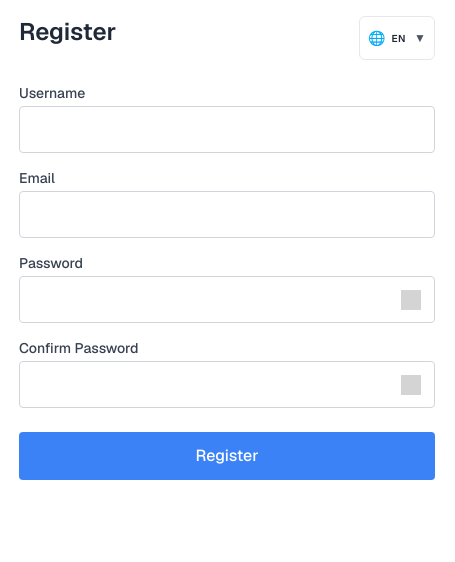
Test: RegisterForm › shows validation error for short password
Type "testuser" into the field labelled "Username". click: (227, 130)
box: [19,106,435,153]
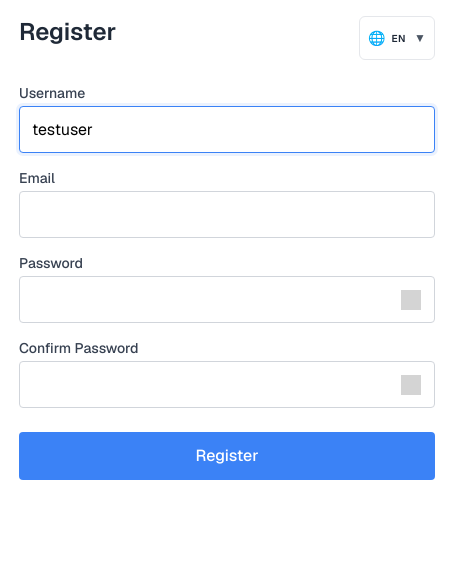
Type "test@example.com" into the field labelled "Email". click: (227, 214)
box: [19,191,435,238]
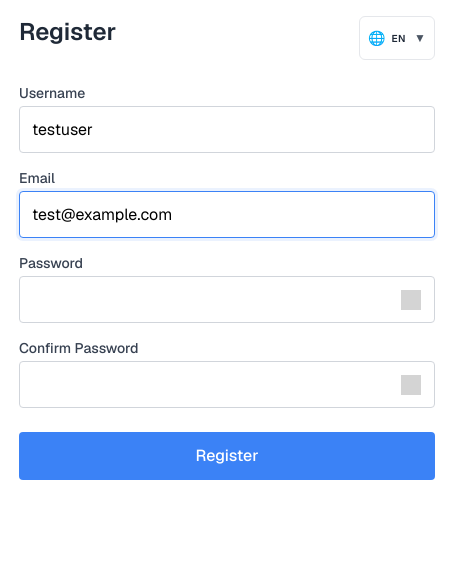
Type "123" into the password field labelled "Password". click: (227, 300)
box: [19,276,435,323]
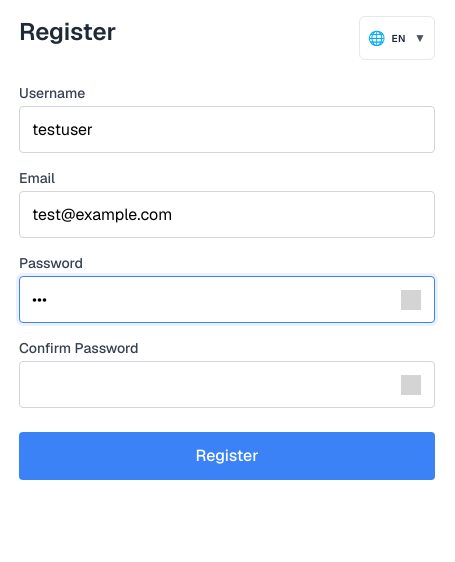
Type "123" into the password field labelled "Confirm Password". click: (227, 384)
box: [19,361,435,408]
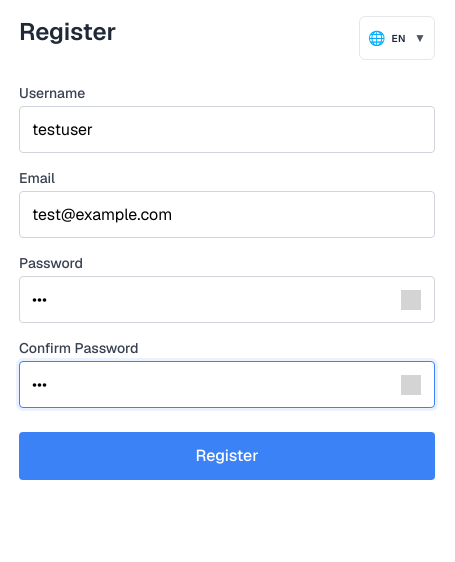
Click the button "Register". click: (227, 456)
box: [19,432,435,480]
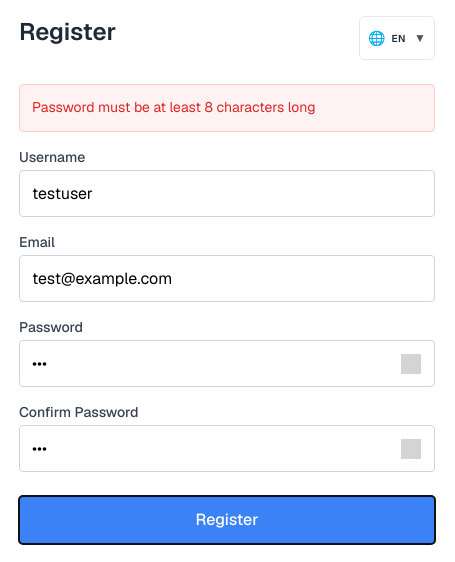
Expected: the text "Password must be at least 8 characters long" is shown, [19,84,435,132]
